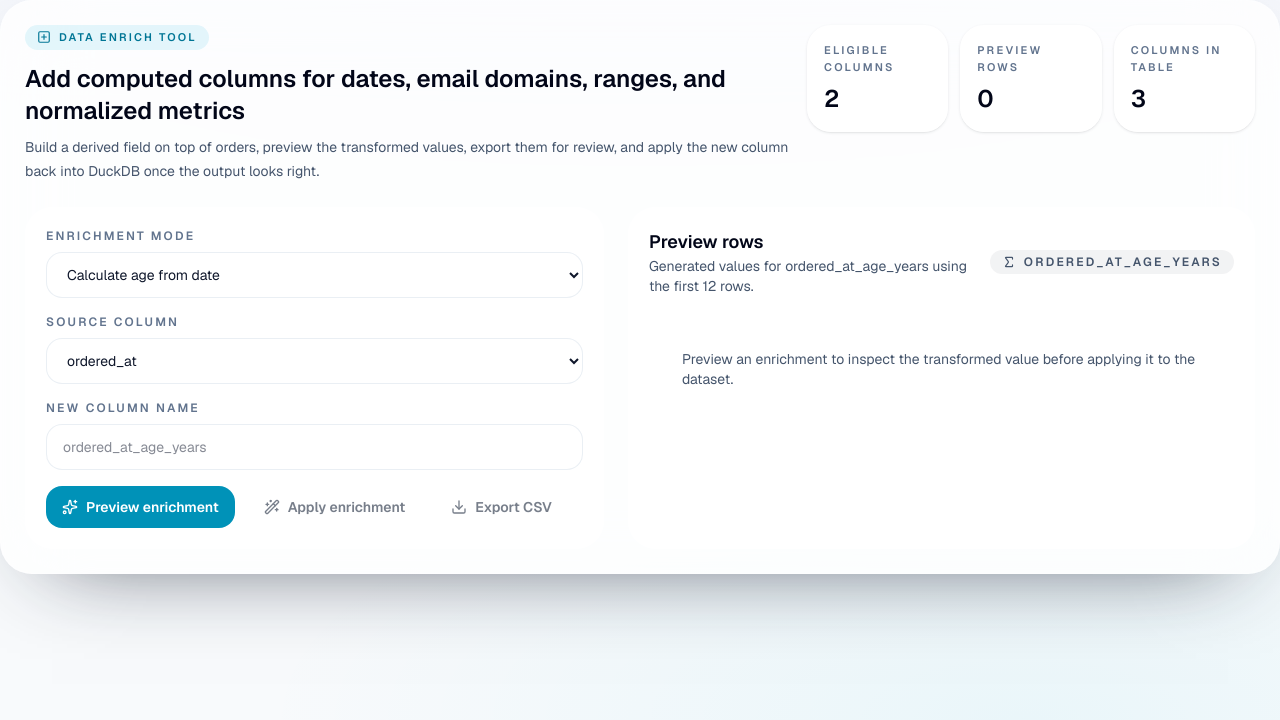
Test: DataEnrichTool › switches to email domain enrichment and refreshes the preview
This screenshot has width=1280, height=720.
Select "Extract domain from email" in the dropdown labelled "Enrichment mode". click: (314, 275)
box: [46,252,583,298]
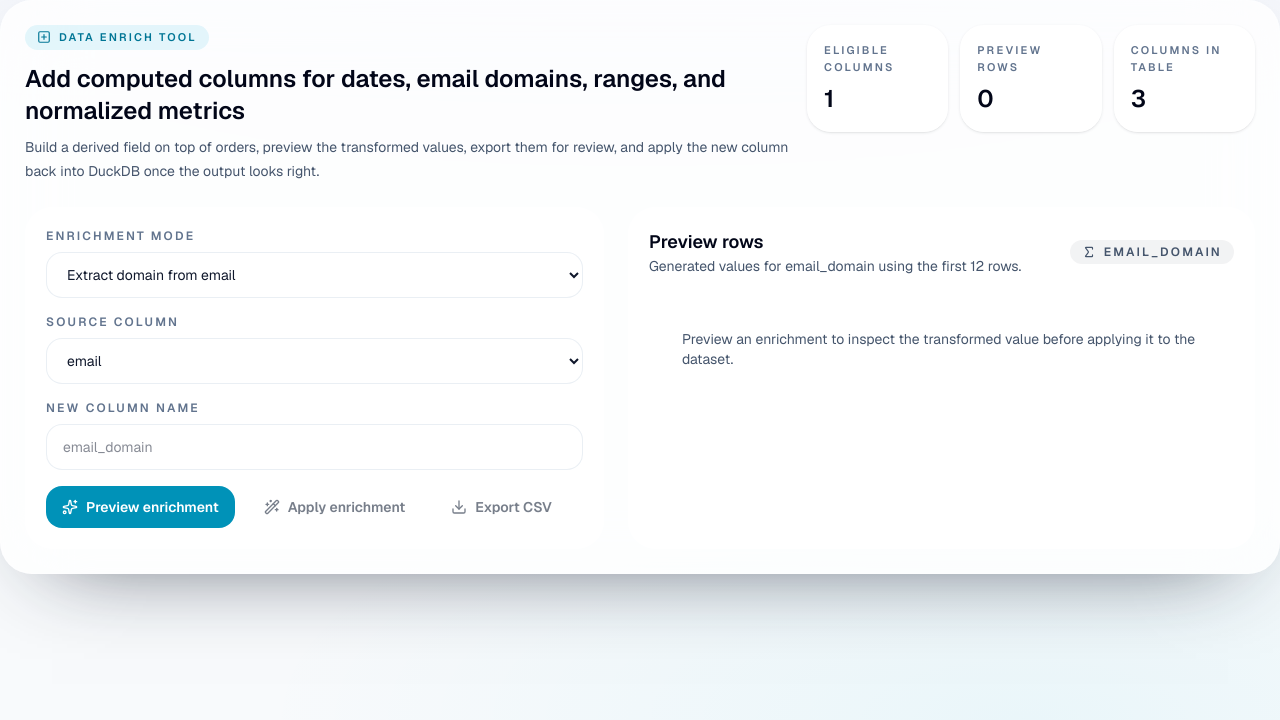
Click the button "Preview enrichment". click: (140, 507)
box: [46,486,235,528]
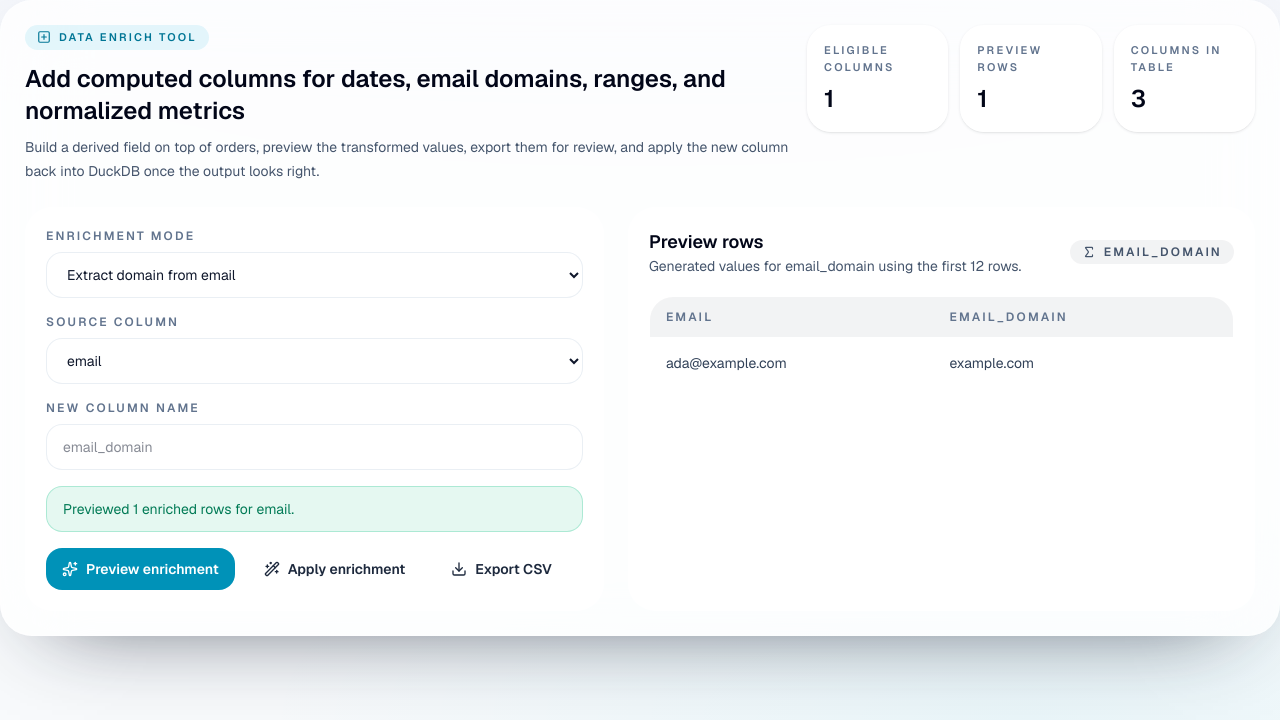
Expected: the text "example.com" is shown, [949,354,1034,372]
Expected: the text "Previewed 1 enriched rows for email." is shown, [46,486,583,532]
